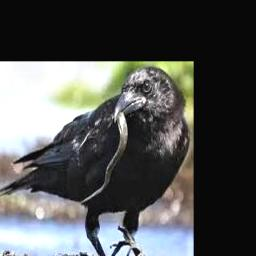Crow: (0, 66, 190, 256)
